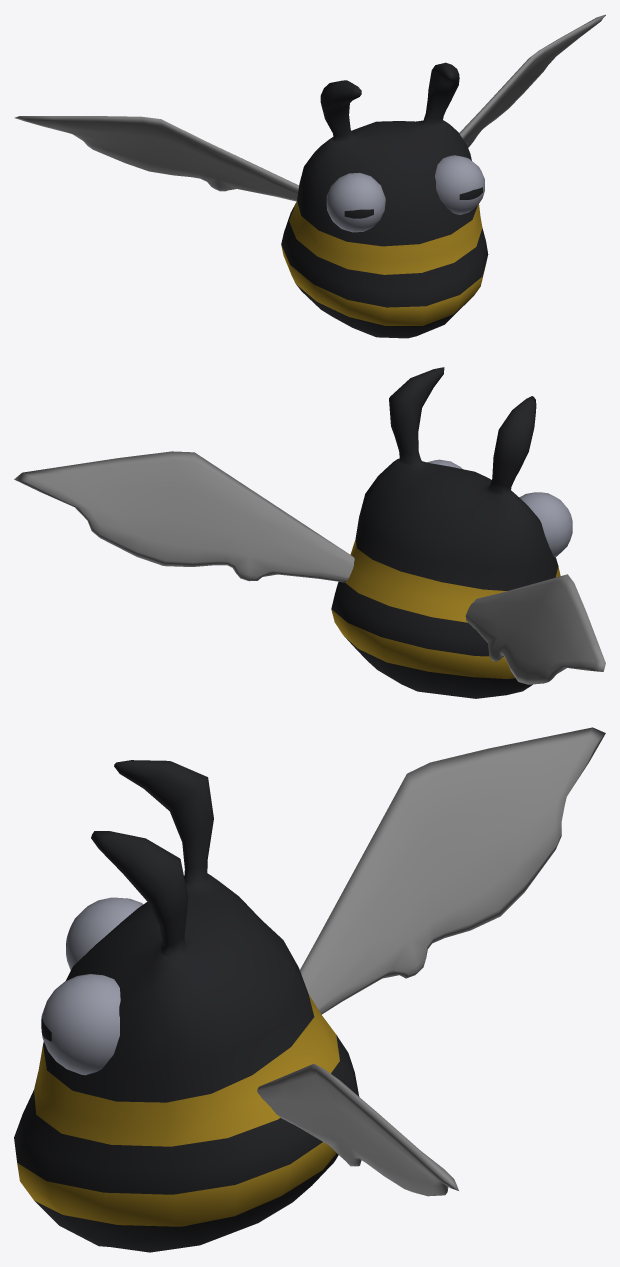
File: Armabee.fbx
The picture shows the model from 3 angles, top to bottom: view 1: azimuth 30°, elevation 25°; view 2: azimuth 150°, elevation 25°; view 3: azimuth 270°, elevation 25°; orthographic projection. The views are drawn at different scales.
Visible parts, largest first — view 1: Armabee; view 2: Armabee; view 3: Armabee.
Part boxes in pixels (x1,y1,x2,y2): Armabee: (14,14,605,338); Armabee: (14,367,605,698); Armabee: (14,727,605,1252).
Bounding box in the file's own units: 345 × 153 × 188.
